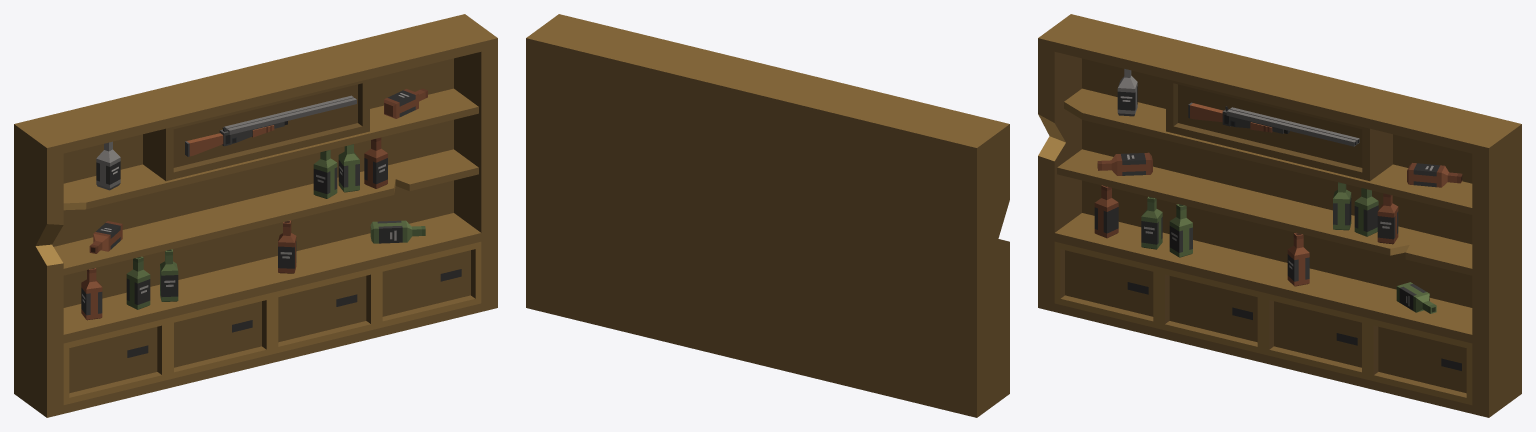
Rendered from AI_Prop_Bar_Shelf.fbx.
3 renders of one model, left to right at view 1: azimuth 30°, elevation 25°; view 2: azimuth 150°, elevation 25°; view 3: azimuth 330°, elevation 25°, orthographic.
Visible parts, largest first — view 1: AI_Prop_Bar_Shelf; view 2: AI_Prop_Bar_Shelf; view 3: AI_Prop_Bar_Shelf.
Boxes of the visible parts, bbox=[...] form: AI_Prop_Bar_Shelf: bbox=[14, 14, 497, 417]; AI_Prop_Bar_Shelf: bbox=[526, 14, 1009, 417]; AI_Prop_Bar_Shelf: bbox=[1038, 14, 1521, 417].
Bounding box in the file's own units: 7.01 × 4.01 × 0.8874.
